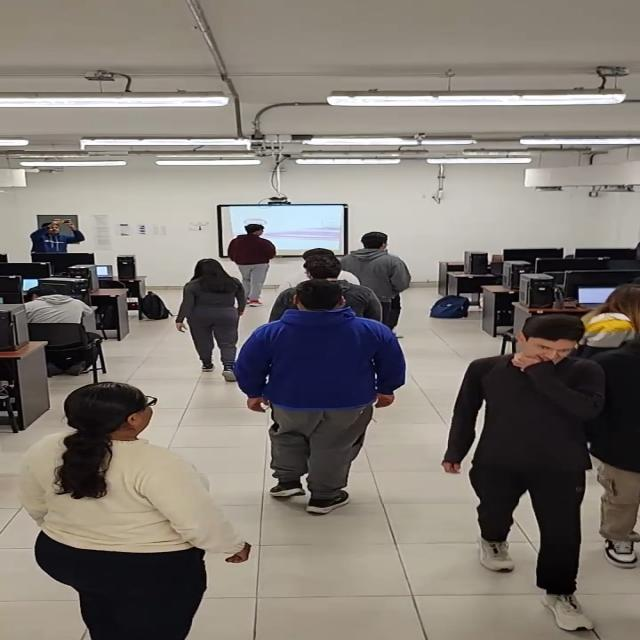Persona: (29, 377, 245, 637), (456, 316, 594, 627), (254, 283, 374, 523), (176, 260, 250, 364), (283, 250, 386, 310), (351, 224, 415, 306), (24, 208, 107, 262), (228, 222, 290, 280)
